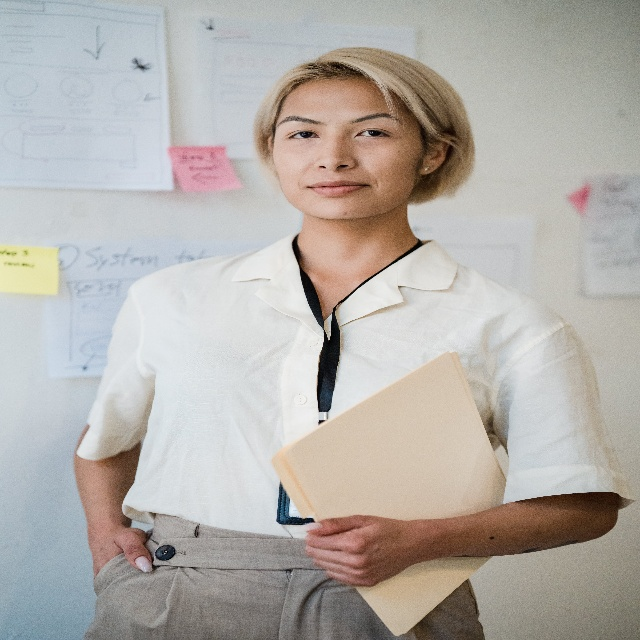Sin_guantes: (303, 514, 411, 588), (92, 528, 154, 573)
